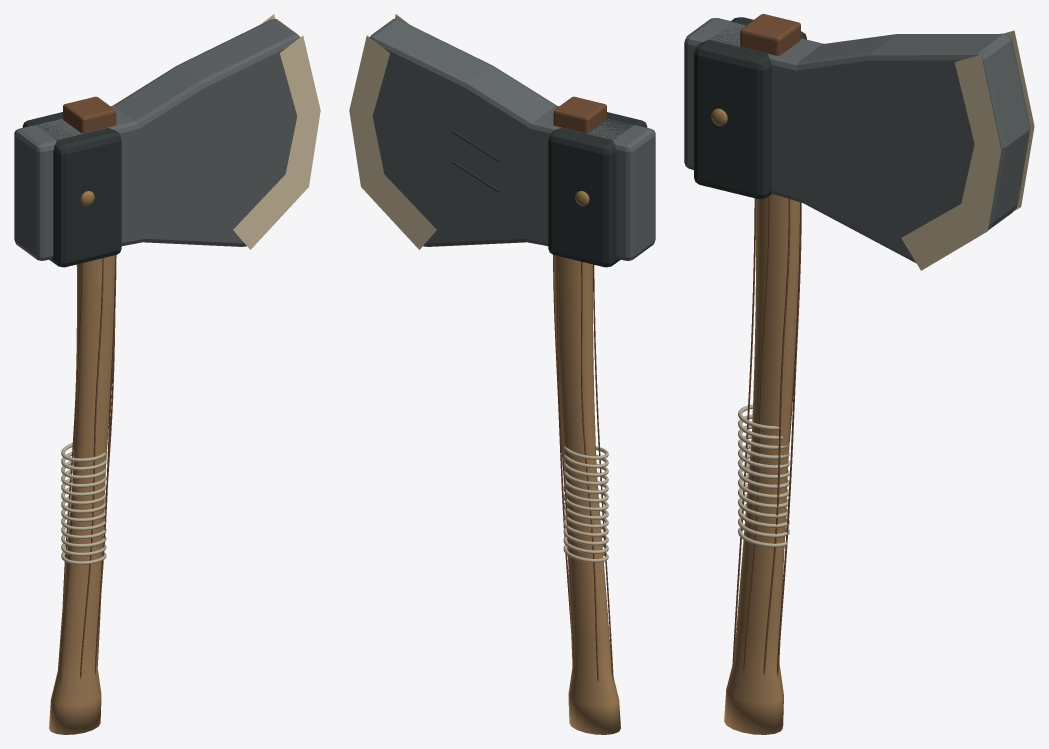
File: SM_CP_Axe.fbx
3 renders of one model, left to right at view 1: azimuth 30°, elevation 25°; view 2: azimuth 150°, elevation 25°; view 3: azimuth 330°, elevation 25°, orthographic. The views are drawn at different scales.
Visible parts, largest first — view 1: SM_CP_Axe; view 2: SM_CP_Axe; view 3: SM_CP_Axe.
Part boxes in pixels (box(x1,y1,x2,y2)): SM_CP_Axe: box(14, 14, 320, 734); SM_CP_Axe: box(349, 14, 655, 734); SM_CP_Axe: box(684, 14, 1034, 734).
Size of what is drawn, in the model's own units: 48 by 13.8 by 106.
